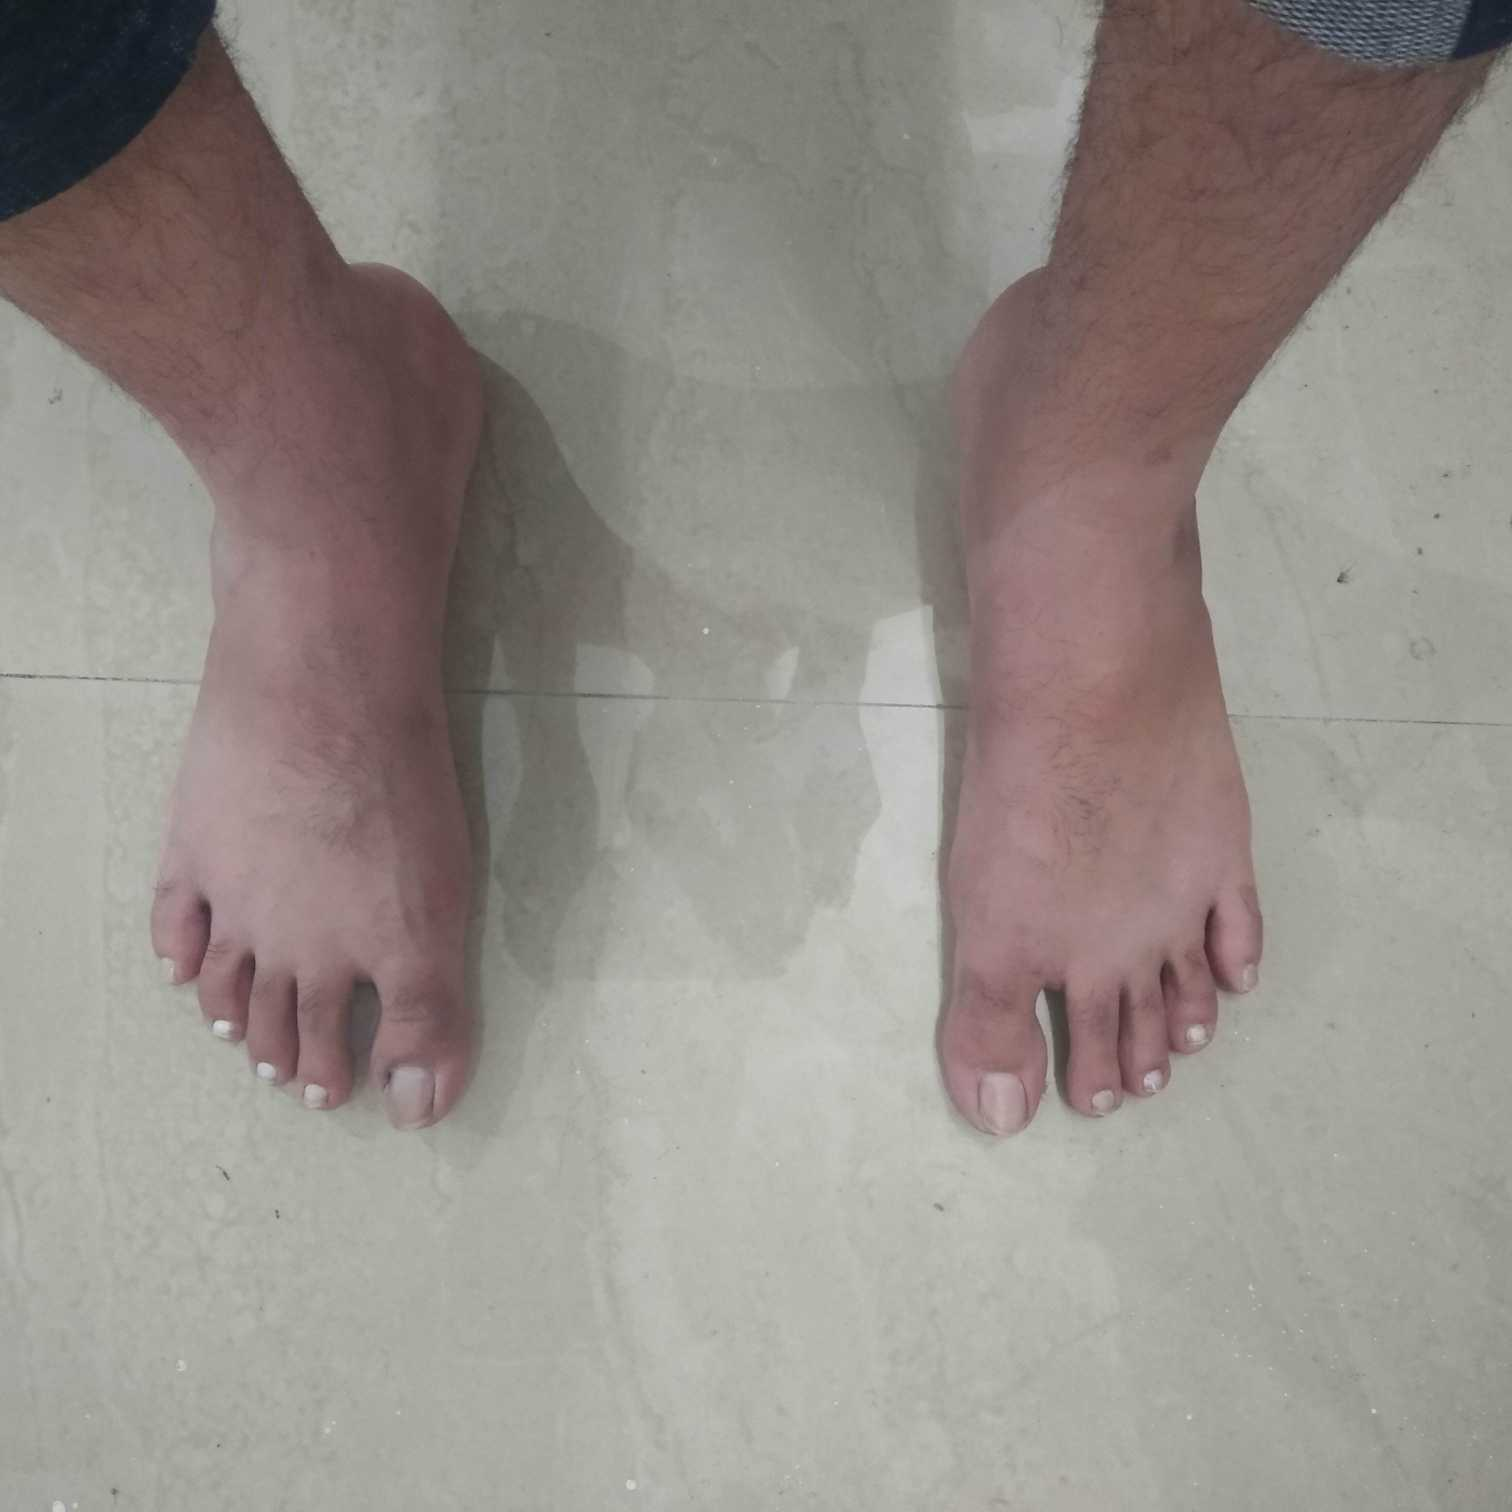foot: (933, 501, 1270, 1144), (143, 532, 485, 1133)
